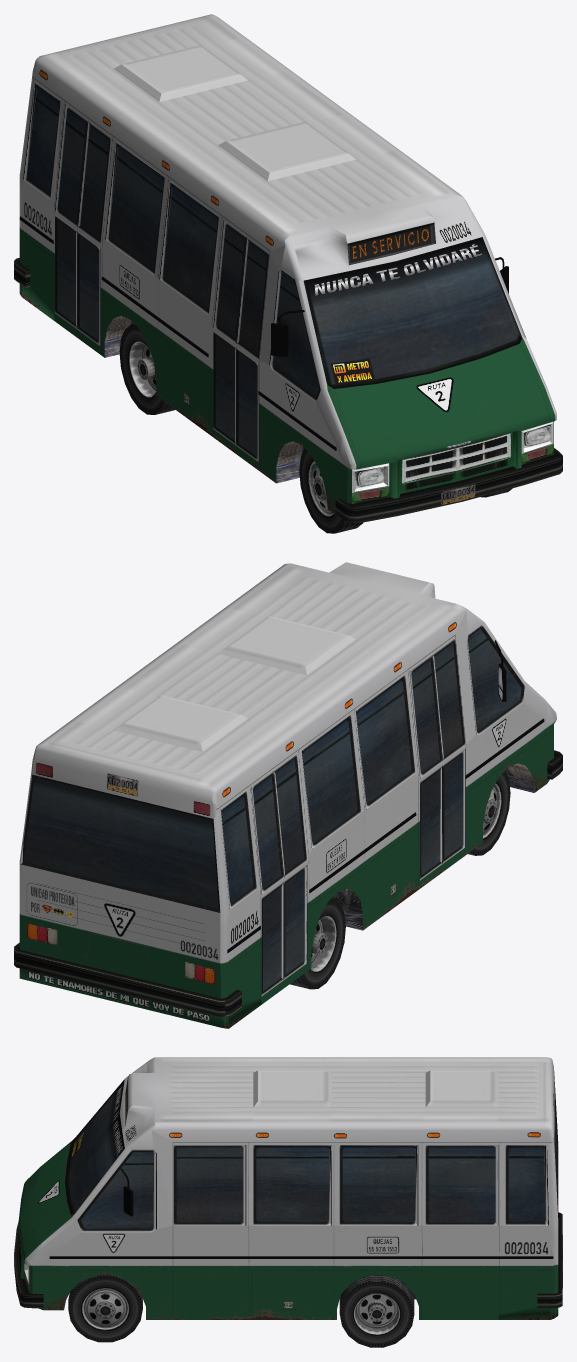
The model's file is mx_microbus2.fbx.
The picture shows the model from 3 angles, top to bottom: view 1: azimuth 30°, elevation 25°; view 2: azimuth 150°, elevation 25°; view 3: azimuth 270°, elevation 25°; orthographic projection. The views are drawn at different scales.
Visible parts, largest first — view 1: Tube001; view 2: Tube001; view 3: Tube001.
Part boxes in pixels (x1,y1,x2,y2): Tube001: (14, 14, 562, 533); Tube001: (14, 562, 562, 1028); Tube001: (14, 1057, 562, 1347).
Size of the model in its own units: 240 by 272 by 603.
